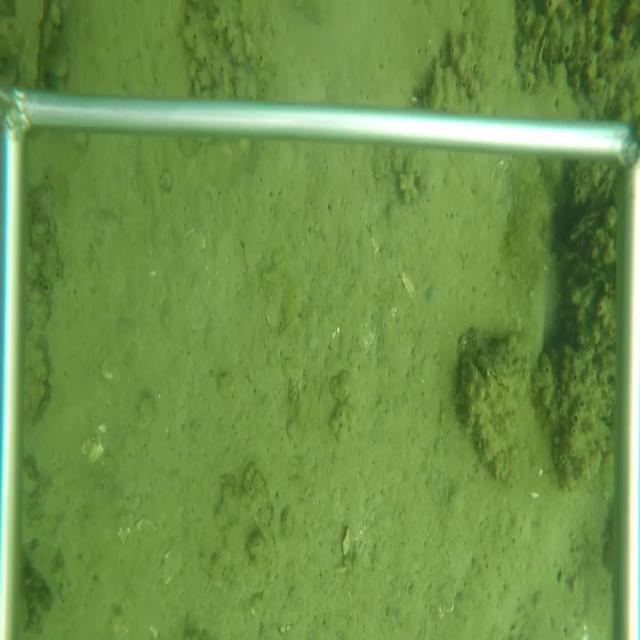Oyster-Closed: (564, 208, 608, 245), (590, 167, 612, 206)
Oyster-Indeterminate: (455, 329, 533, 492), (14, 0, 42, 85)
Oyster-Open: (22, 325, 52, 429), (532, 19, 549, 75)
